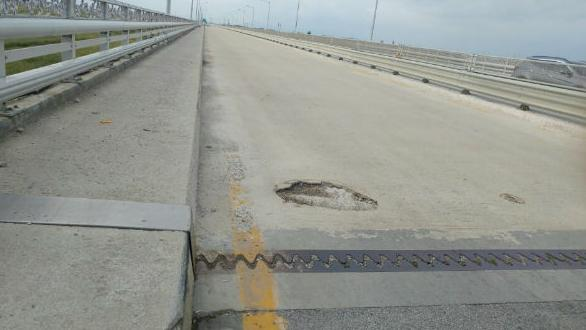pothole: (268, 171, 392, 218)
